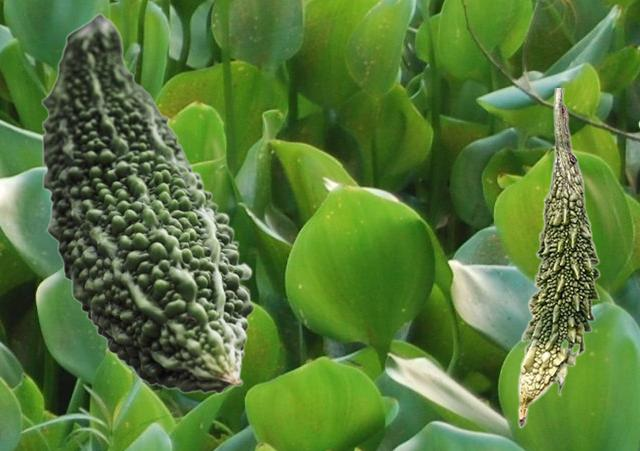ampalaya: (41, 12, 254, 393), (517, 88, 600, 428)
